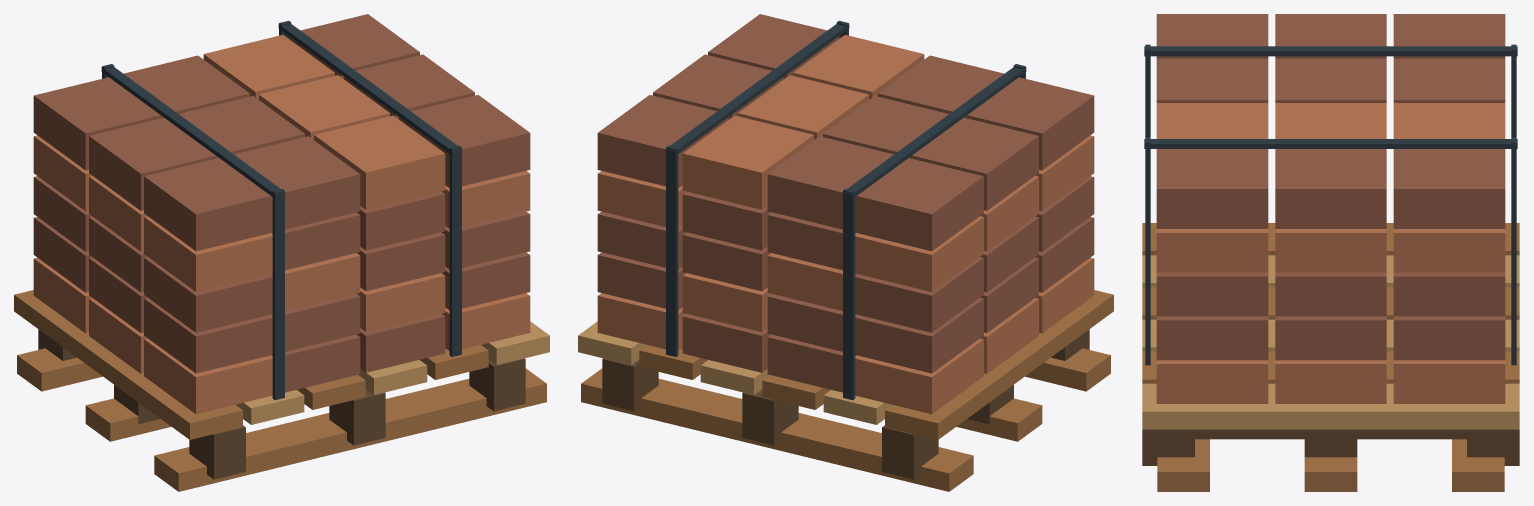
Rendered from b14_pallet_strapped_masonry_bricks.glb.
3 views of the same model, side by side, from view 1: azimuth 30°, elevation 25°; view 2: azimuth 150°, elevation 25°; view 3: azimuth 270°, elevation 25° (orthographic). The views are drawn at different scales.
Parts seen in each view (by area): view 1: b14_pallet_strapped_masonry_bricks; view 2: b14_pallet_strapped_masonry_bricks; view 3: b14_pallet_strapped_masonry_bricks.
Part boxes in pixels (x1,y1,x2,y2): b14_pallet_strapped_masonry_bricks: [14, 14, 549, 491]; b14_pallet_strapped_masonry_bricks: [578, 14, 1113, 491]; b14_pallet_strapped_masonry_bricks: [1142, 14, 1519, 491].
Size of the model in its own units: 1.04 by 0.759 by 0.86.
